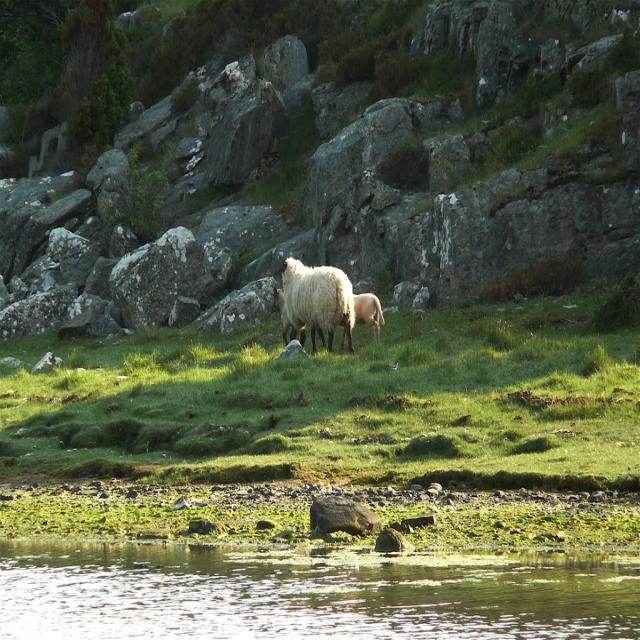Sheep: (275, 256, 354, 353)
